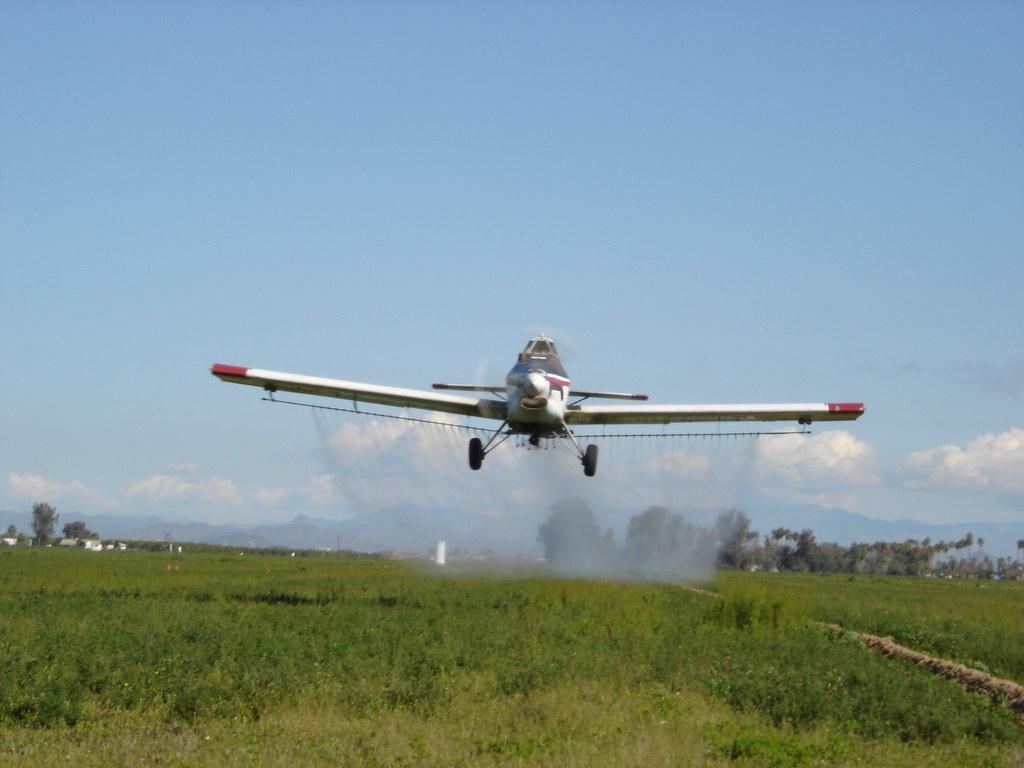plane: (211, 332, 867, 477)
